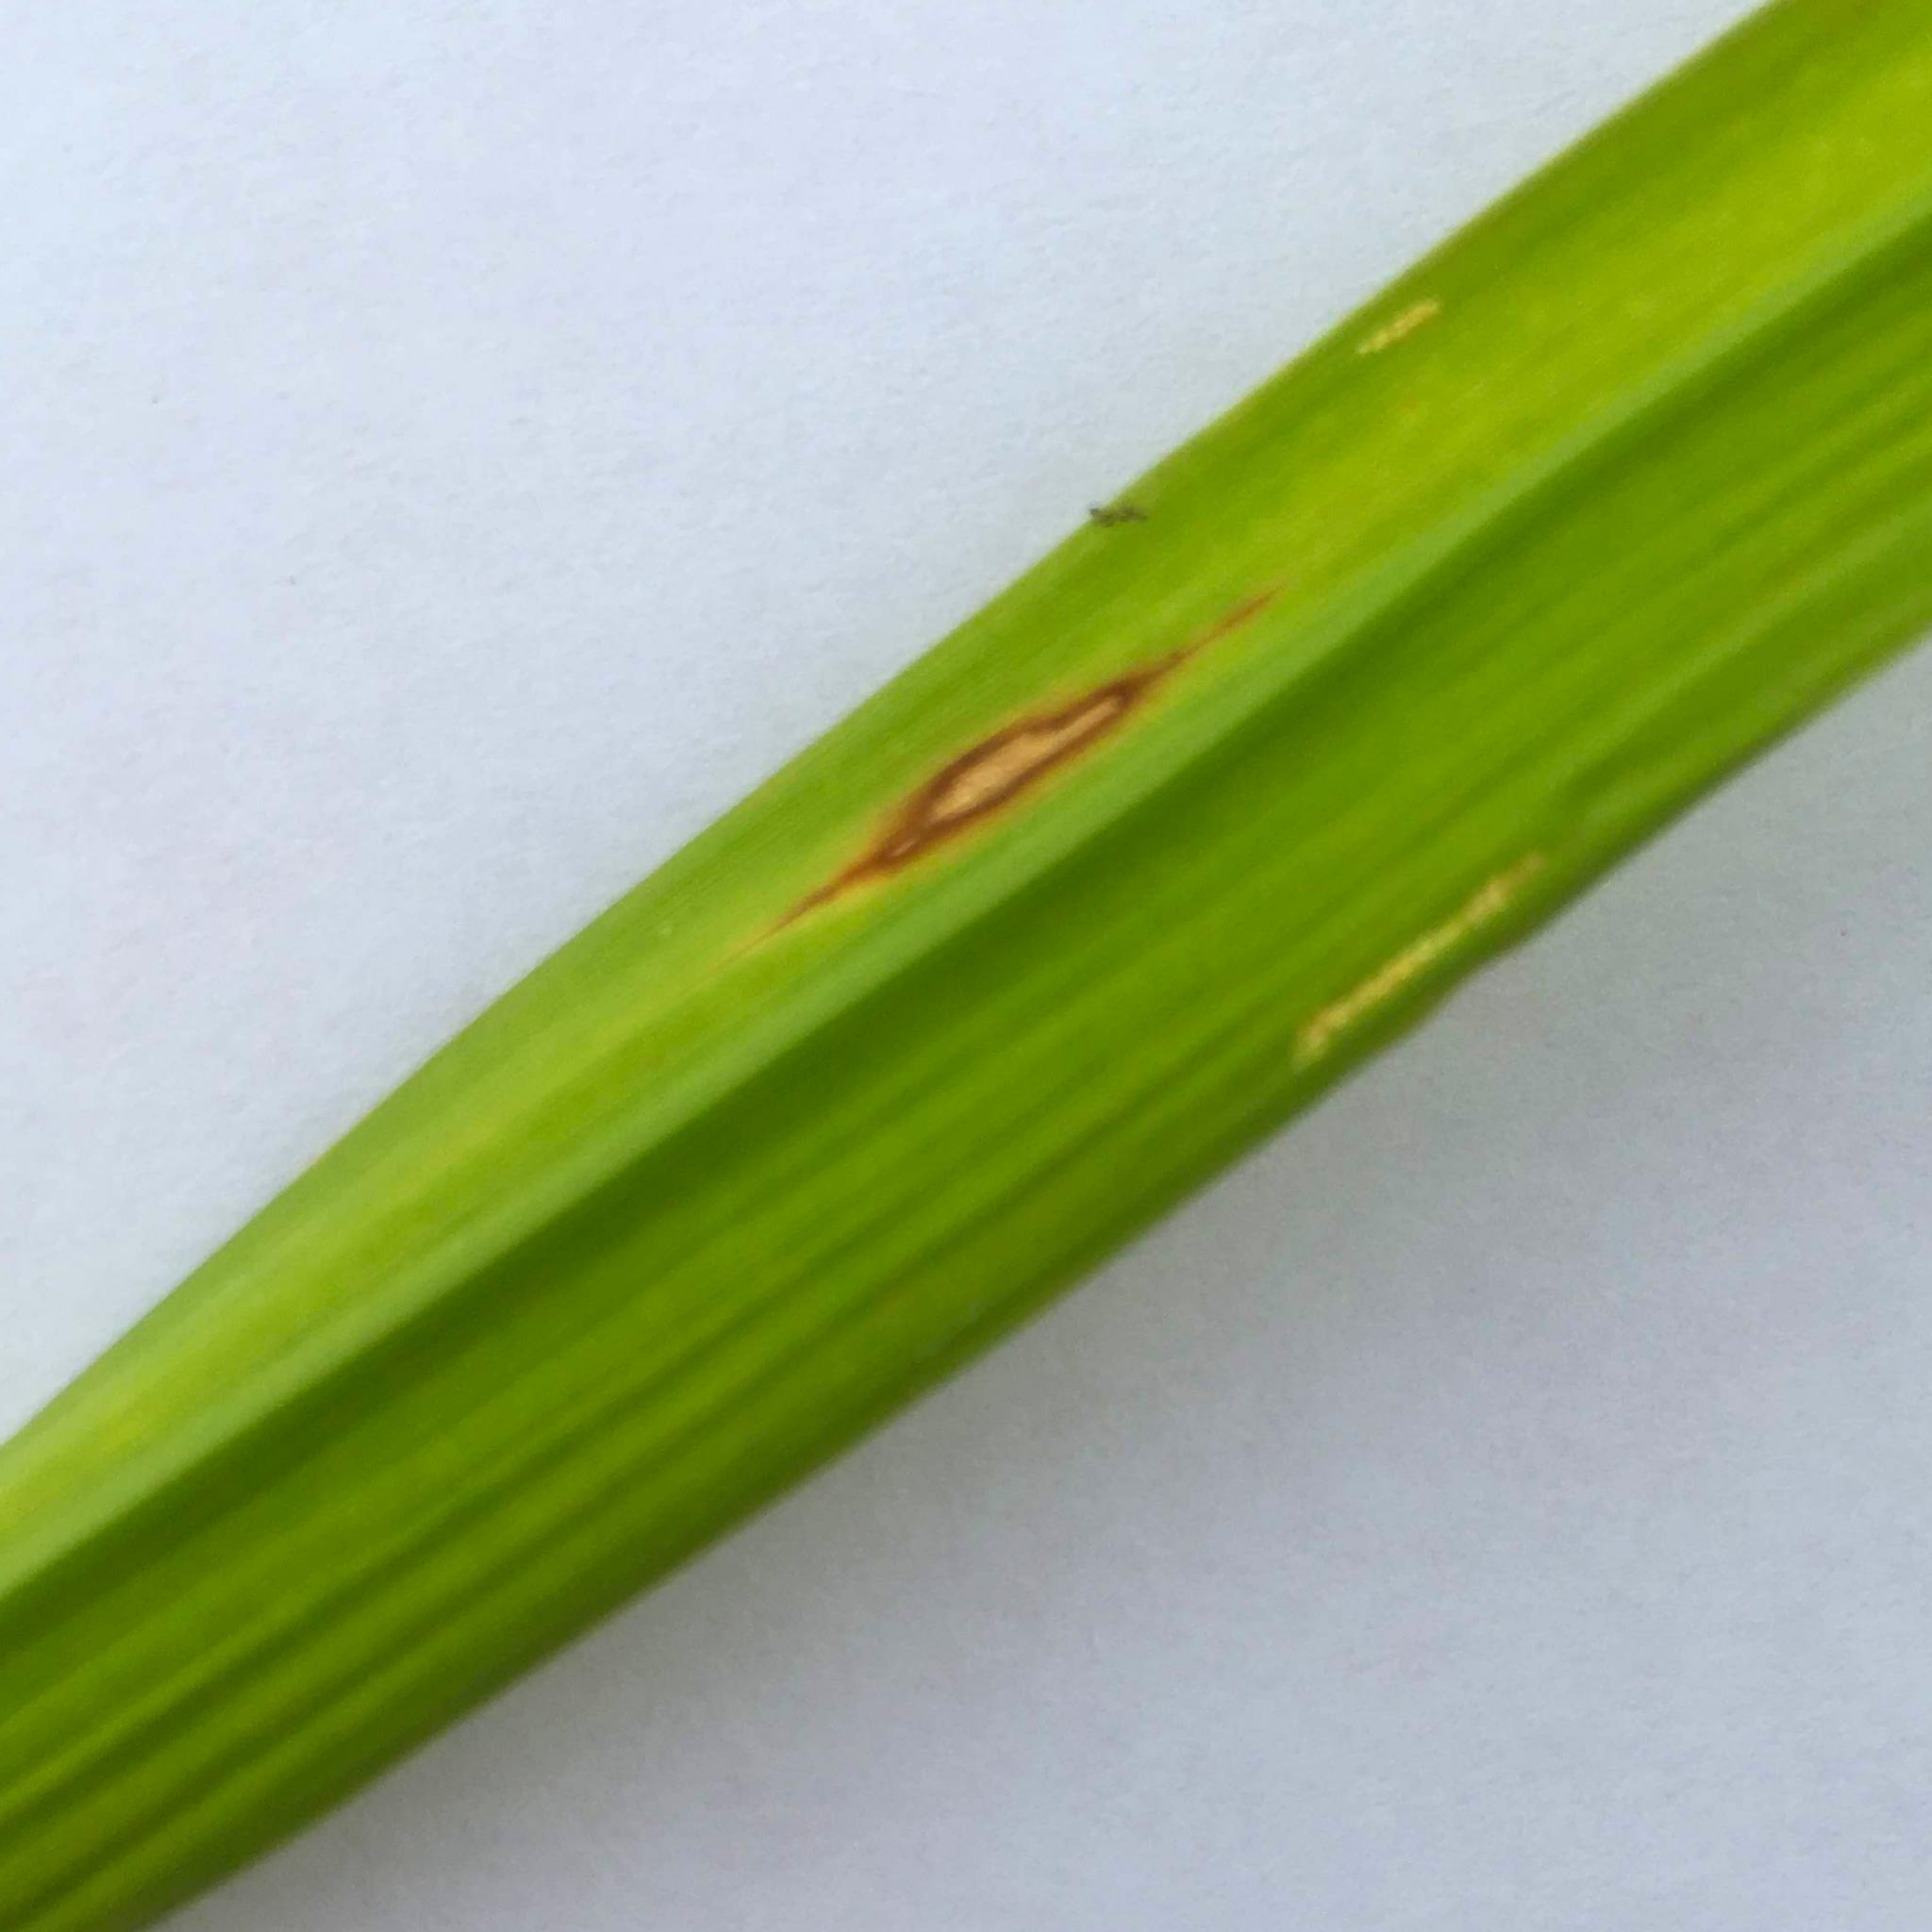1 RiceBlast: (777, 571, 1288, 929)
